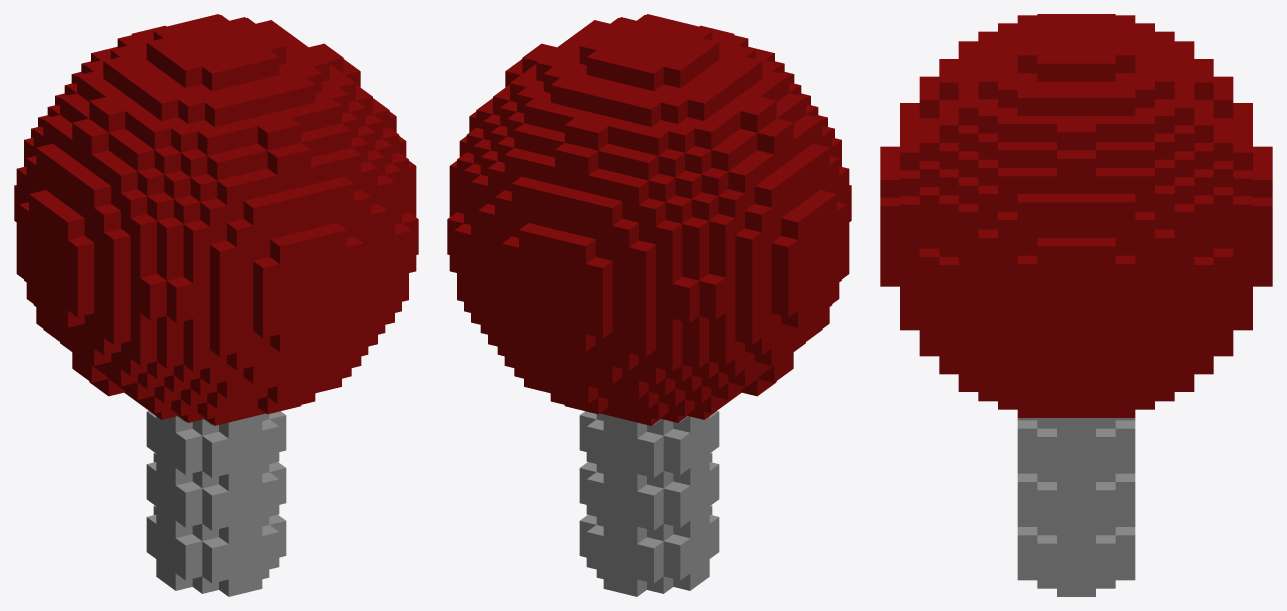
The model's file is Laser.fbx.
3 views of the same model, side by side, from view 1: azimuth 30°, elevation 25°; view 2: azimuth 150°, elevation 25°; view 3: azimuth 270°, elevation 25° (orthographic).
Visible parts, largest first — view 1: Laser; view 2: Laser; view 3: Laser.
Part boxes in pixels (x1,y1,x2,y2): Laser: (14,14,418,596); Laser: (447,14,851,596); Laser: (880,14,1272,596).
Size of the model in its own units: 200 by 200 by 300.
1 material, 1 textured.
